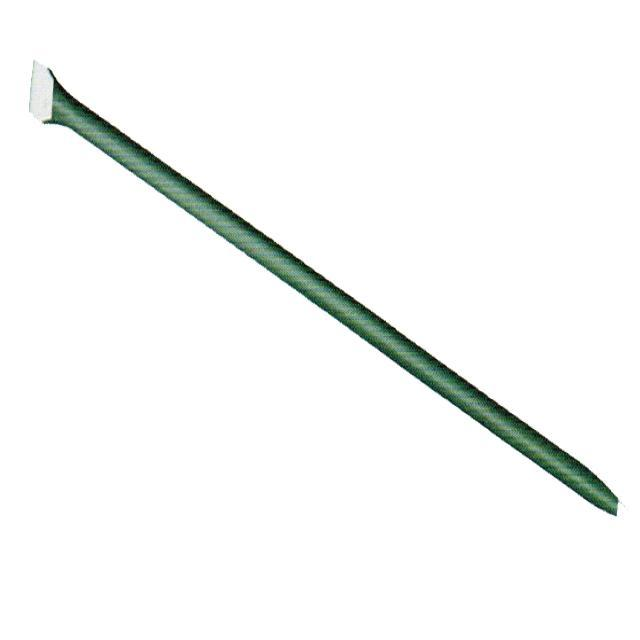Linggis: (24, 42, 634, 535)
